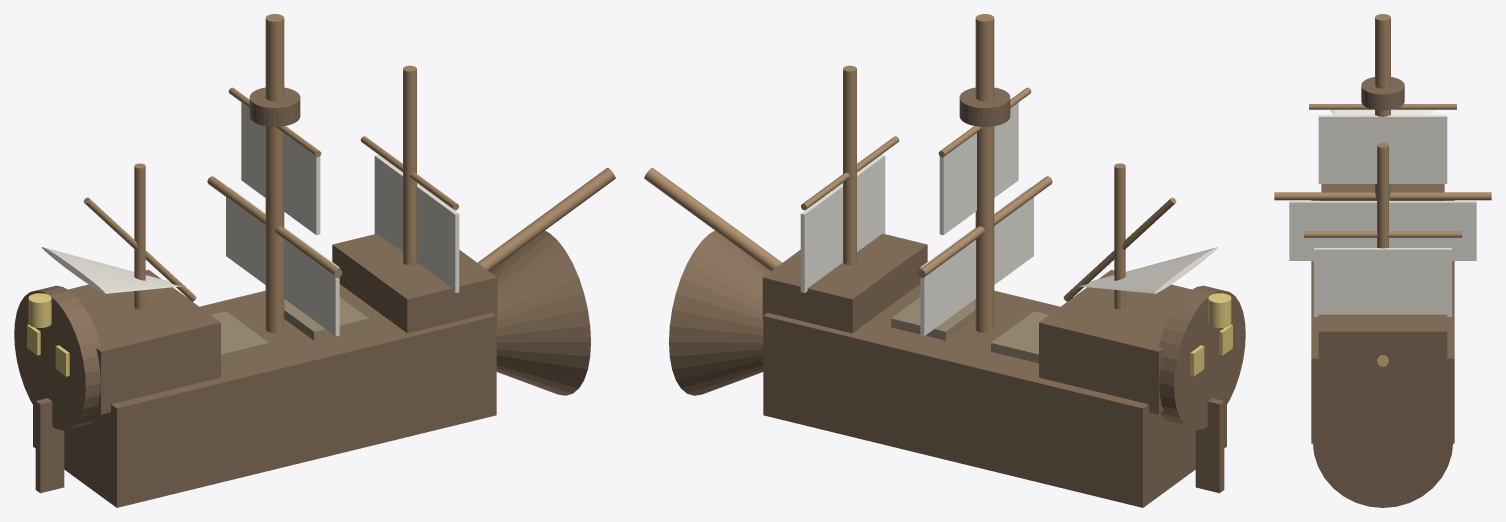
The model's file is fluyt_cargo_ship.glb.
3 views of the same model, side by side, from view 1: azimuth 30°, elevation 25°; view 2: azimuth 150°, elevation 25°; view 3: azimuth 270°, elevation 25° (orthographic). The views are drawn at different scales.
Parts seen in each view (by area): view 1: Cube, Cube.002, Cone, Cube.001, Cylinder, Cube.008, Cube.010, Cylinder.002, Cube.009, Cylinder.006, Cube.011, Cone.001 (+9 smaller); view 2: Cube, Cube.002, Cone, Cube.001, Cylinder, Cube.008, Cube.010, Cylinder.002, Cube.009, Cylinder.006, Cube.011, Cone.001 (+9 smaller); view 3: Cone, Cube.010, Cube.009, Cube.008, Cube.001, Cube, Cylinder.003, Cylinder.002, Cylinder.006, Cylinder.005, Cube.002, Cylinder.007 (+2 smaller).
Boxes of the visible parts, x1=… form: Cube: x1=33, y1=284, x2=496, y2=507; Cube.002: x1=68, y1=270, x2=220, y2=414; Cone: x1=489, y1=231, x2=590, y2=395; Cube.001: x1=332, y1=233, x2=497, y2=333; Cylinder: x1=14, y1=285, x2=100, y2=430; Cube.008: x1=226, y1=187, x2=339, y2=336; Cube.010: x1=374, y1=154, x2=459, y2=292; Cylinder.002: x1=265, y1=14, x2=284, y2=332; Cube.009: x1=241, y1=102, x2=320, y2=235; Cylinder.006: x1=403, y1=65, x2=416, y2=264; Cube.011: x1=35, y1=398, x2=64, y2=493; Cone.001: x1=42, y1=247, x2=185, y2=293; Cube: x1=763, y1=284, x2=1226, y2=507; Cube.002: x1=1039, y1=270, x2=1191, y2=414; Cone: x1=669, y1=231, x2=770, y2=395; Cube.001: x1=762, y1=233, x2=927, y2=333; Cylinder: x1=1159, y1=285, x2=1245, y2=430; Cube.008: x1=920, y1=187, x2=1033, y2=336; Cube.010: x1=800, y1=154, x2=885, y2=292; Cylinder.002: x1=975, y1=14, x2=994, y2=332; Cube.009: x1=939, y1=102, x2=1018, y2=235; Cylinder.006: x1=843, y1=65, x2=856, y2=264; Cube.011: x1=1195, y1=398, x2=1224, y2=493; Cone.001: x1=1074, y1=247, x2=1217, y2=293; Cone: x1=1312, y1=373, x2=1453, y2=507; Cube.010: x1=1314, y1=248, x2=1451, y2=316; Cube.009: x1=1318, y1=115, x2=1447, y2=183; Cube.008: x1=1289, y1=201, x2=1476, y2=260; Cube.001: x1=1318, y1=314, x2=1447, y2=367; Cube: x1=1311, y1=200, x2=1454, y2=443; Cylinder.003: x1=1274, y1=192, x2=1491, y2=200; Cylinder.002: x1=1375, y1=14, x2=1390, y2=200; Cylinder.006: x1=1377, y1=142, x2=1388, y2=248; Cylinder.005: x1=1361, y1=77, x2=1404, y2=110; Cube.002: x1=1321, y1=184, x2=1444, y2=200; Cylinder.007: x1=1304, y1=231, x2=1461, y2=237.
Bounding box in the file's own units: 5.84 × 4.2 × 2.2.
